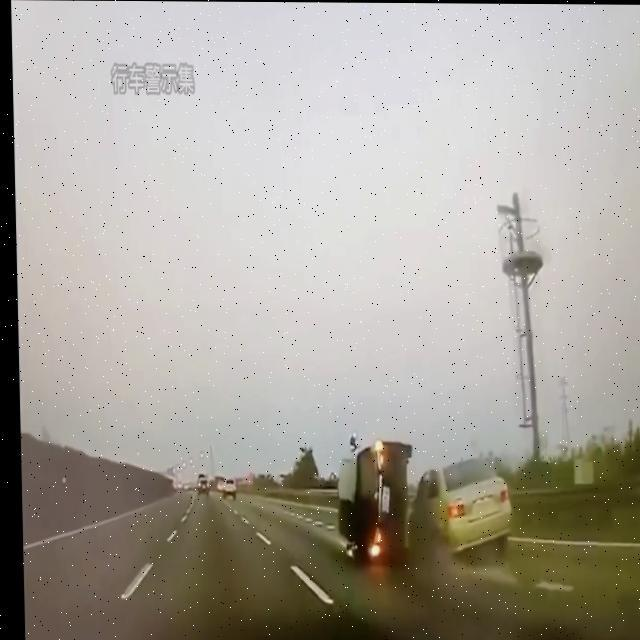multiple_accident: (336, 407, 504, 590)
